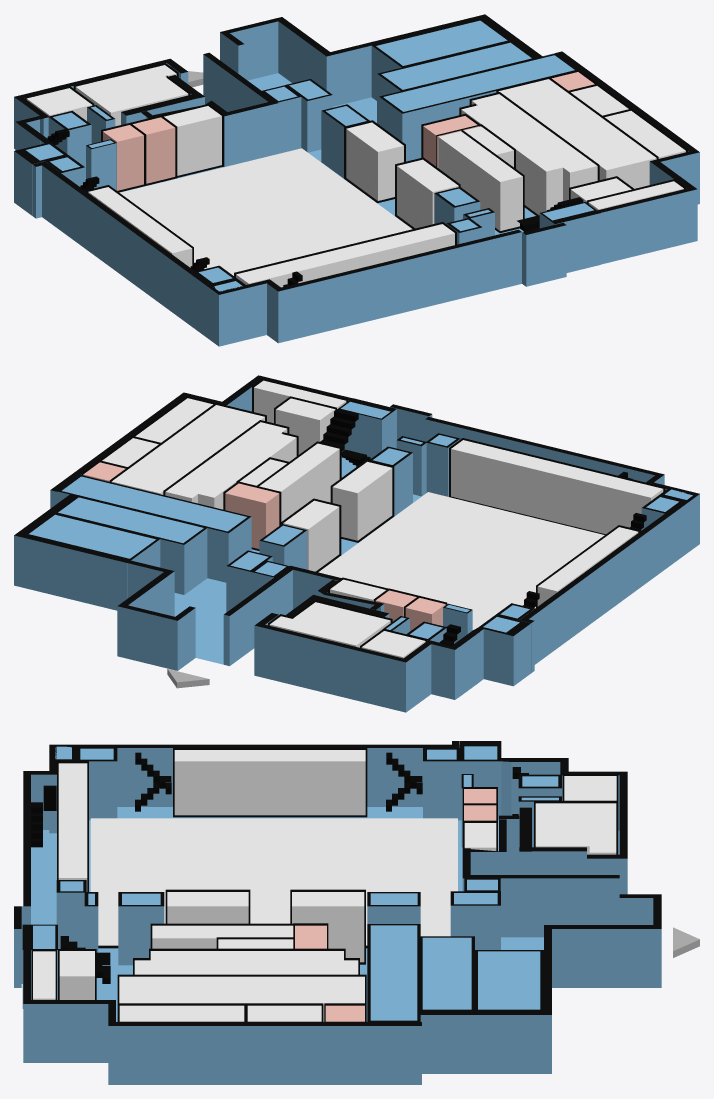
3 views of the same model, one above another, from view 1: azimuth 30°, elevation 25°; view 2: azimuth 150°, elevation 25°; view 3: azimuth 270°, elevation 25° (orthographic). The views are drawn at different scales.
Visible parts, largest first — view 1: object, room_S_1_1, room_S_1_15, room_S_1_6, room_S_1_13, room_S_1_14, room_S_1_11, room_S_1_4, room_S_1_2, room_S_1_12, room_S_1_10, トイレ_S_1_3 (+11 smaller); view 2: object, room_S_1_1, room_S_1_13, room_S_1_6, room_S_1_15, room_S_1_12, room_S_1_14, room_S_1_4, room_S_1_11, トイレ_S_1_4, room_S_1_16, room_S_1_10 (+11 smaller); view 3: object, room_S_1_1, room_S_1_10, room_S_1_6, room_S_1_15, room_S_1_4, room_S_1_13, room_S_1_11, room_S_1_12, room_S_1_14, room_S_1_5, room_S_1_16 (+15 smaller).
Boxes of the visible parts, box(x1,y1,x2,y2) form: object: box(14, 14, 699, 346); room_S_1_1: box(120, 148, 411, 275); room_S_1_15: box(461, 94, 597, 215); room_S_1_6: box(498, 79, 656, 188); room_S_1_13: box(236, 224, 454, 287); room_S_1_14: box(438, 131, 522, 230); room_S_1_11: box(346, 122, 403, 200); room_S_1_4: box(75, 65, 188, 126); room_S_1_2: box(164, 106, 221, 175); room_S_1_12: box(397, 159, 458, 228); room_S_1_10: box(88, 187, 192, 267); トイレ_S_1_3: box(133, 117, 175, 183); object: box(14, 375, 699, 712); room_S_1_1: box(318, 492, 604, 629); room_S_1_13: box(451, 440, 663, 534); room_S_1_6: box(111, 405, 264, 494); room_S_1_15: box(165, 422, 296, 509); room_S_1_12: box(332, 461, 392, 540); room_S_1_14: box(259, 443, 339, 521); room_S_1_4: box(269, 602, 390, 647); room_S_1_11: box(283, 500, 339, 571); トイレ_S_1_4: box(225, 483, 279, 548); room_S_1_16: box(275, 398, 335, 454); room_S_1_10: box(537, 527, 638, 606); object: box(14, 741, 661, 1084); room_S_1_1: box(90, 818, 457, 945); room_S_1_10: box(174, 750, 365, 815); room_S_1_6: box(119, 976, 364, 1021); room_S_1_15: box(134, 951, 358, 974); room_S_1_4: box(535, 803, 616, 854); room_S_1_13: box(58, 763, 87, 891); room_S_1_11: box(292, 892, 364, 962); room_S_1_12: box(167, 892, 248, 923); room_S_1_14: box(152, 925, 293, 948); room_S_1_5: box(119, 1005, 244, 1021); room_S_1_16: box(59, 951, 94, 999).
Size of the model in its own units: 1.79 by 0.1827 by 1.82.
